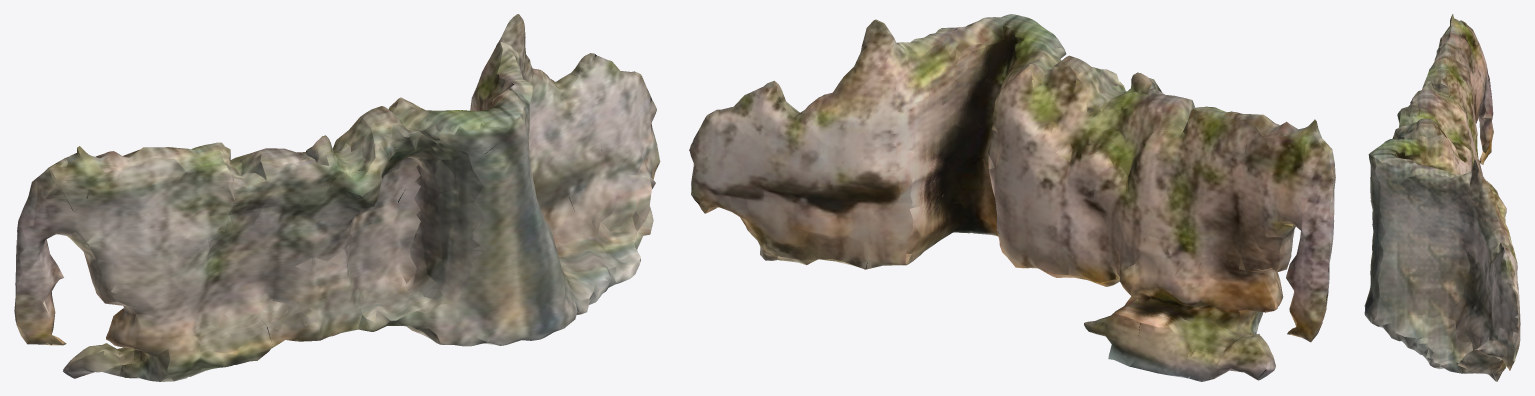
File: pum-pum-rock.glb
The picture shows the model from 3 angles, left to right: view 1: azimuth 30°, elevation 25°; view 2: azimuth 150°, elevation 25°; view 3: azimuth 270°, elevation 25°; orthographic projection. The views are drawn at different scales.
Parts seen in each view (by area): view 1: world; view 2: world; view 3: world.
Boxes of the visible parts, left/top/right/bottom form: world: left=14, top=14, right=660, bottom=381; world: left=689, top=14, right=1335, bottom=381; world: left=1364, top=14, right=1520, bottom=381.
Bounding box in the file's own units: 0.9294 × 0.3815 × 0.2743.
1 material, 1 textured.
